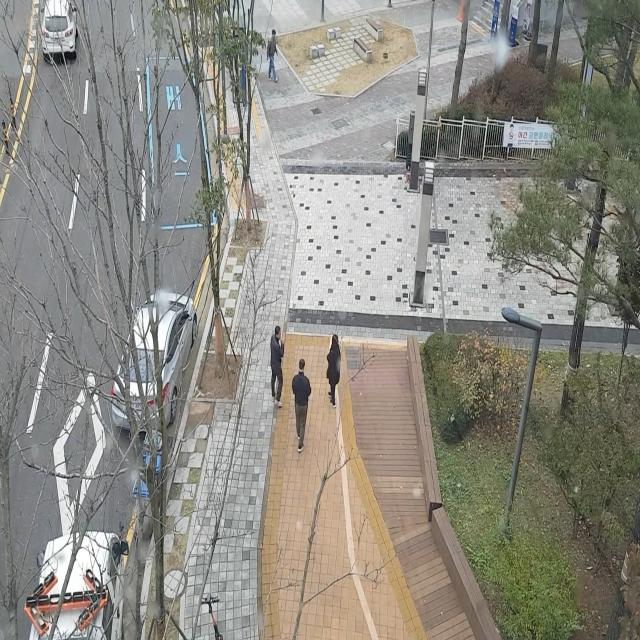Car: (100, 243, 200, 439), (36, 0, 90, 64)
Truck: (18, 507, 138, 640)
